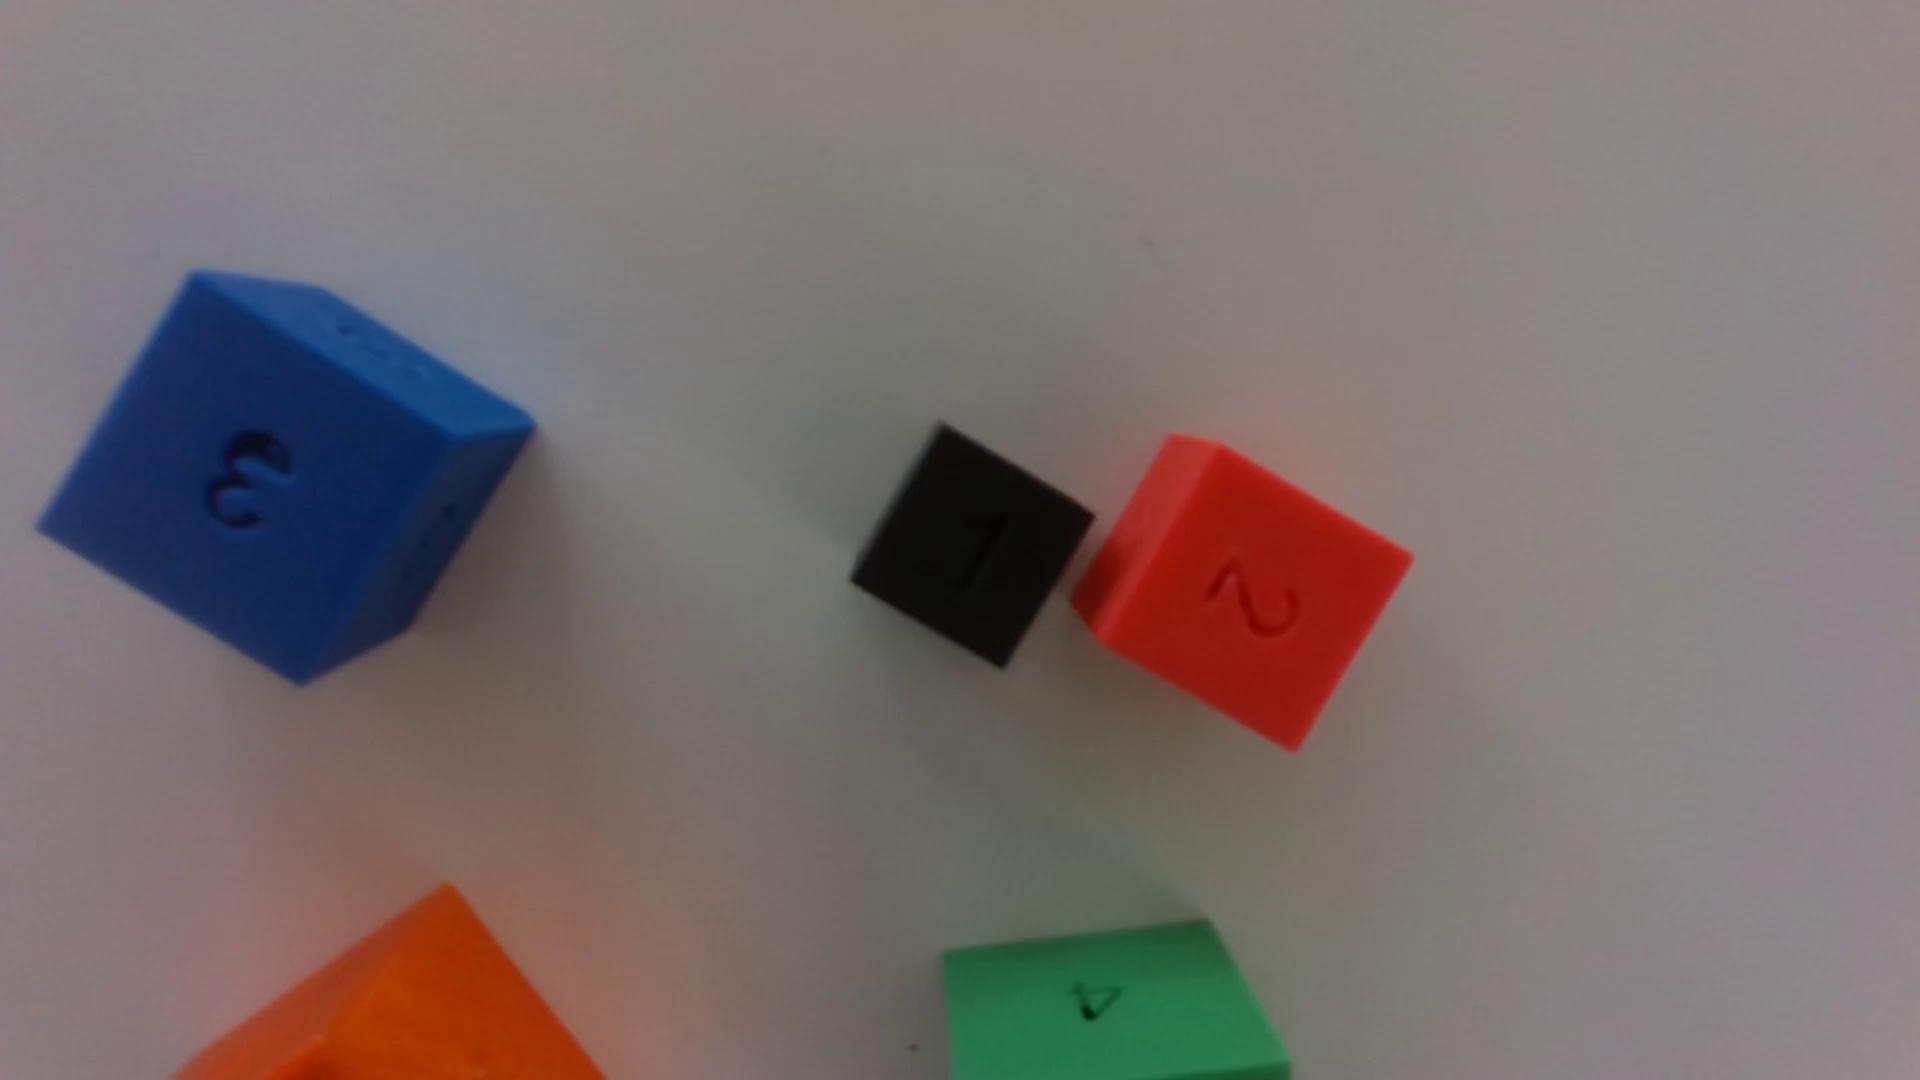black: (851, 426, 1093, 669)
blue: (38, 272, 535, 684)
green: (942, 920, 1290, 1080)
orange: (177, 886, 604, 1080)
red: (1072, 436, 1411, 750)
